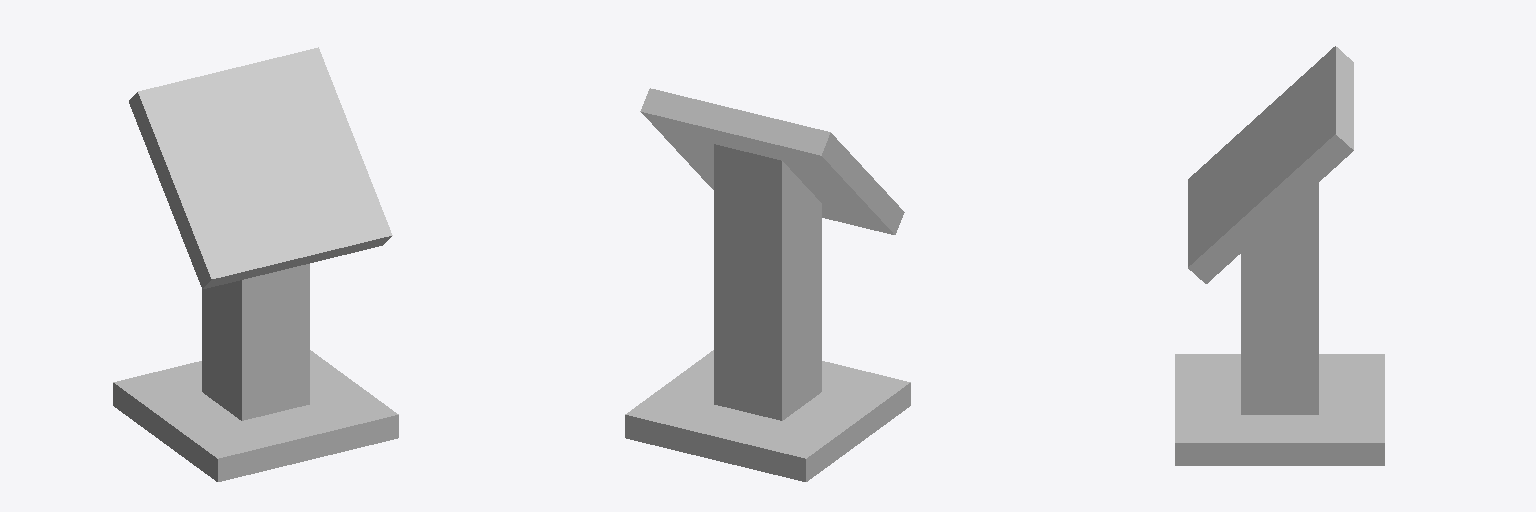
The model's file is control_panel.obj.
The picture shows the model from 3 angles: view 1: azimuth 30°, elevation 25°; view 2: azimuth 150°, elevation 25°; view 3: azimuth 270°, elevation 25°; orthographic projection.
Parts seen in each view (by area): view 1: Panel_Cube.004, Base_Cube.001, Stand_Cube.002; view 2: Stand_Cube.002, Base_Cube.001, Panel_Cube.004; view 3: Panel_Cube.004, Base_Cube.001, Stand_Cube.002.
Part boxes in pixels (bbox=[...]): Panel_Cube.004: bbox=[129, 47, 392, 289]; Base_Cube.001: bbox=[113, 350, 398, 481]; Stand_Cube.002: bbox=[202, 264, 309, 420]; Stand_Cube.002: bbox=[714, 144, 821, 420]; Base_Cube.001: bbox=[625, 350, 910, 481]; Panel_Cube.004: bbox=[640, 88, 904, 234]; Panel_Cube.004: bbox=[1188, 46, 1353, 283]; Base_Cube.001: bbox=[1175, 354, 1384, 465]; Stand_Cube.002: bbox=[1241, 183, 1318, 414].
Size of the model in its own units: 0.8 by 1.4 by 0.8.